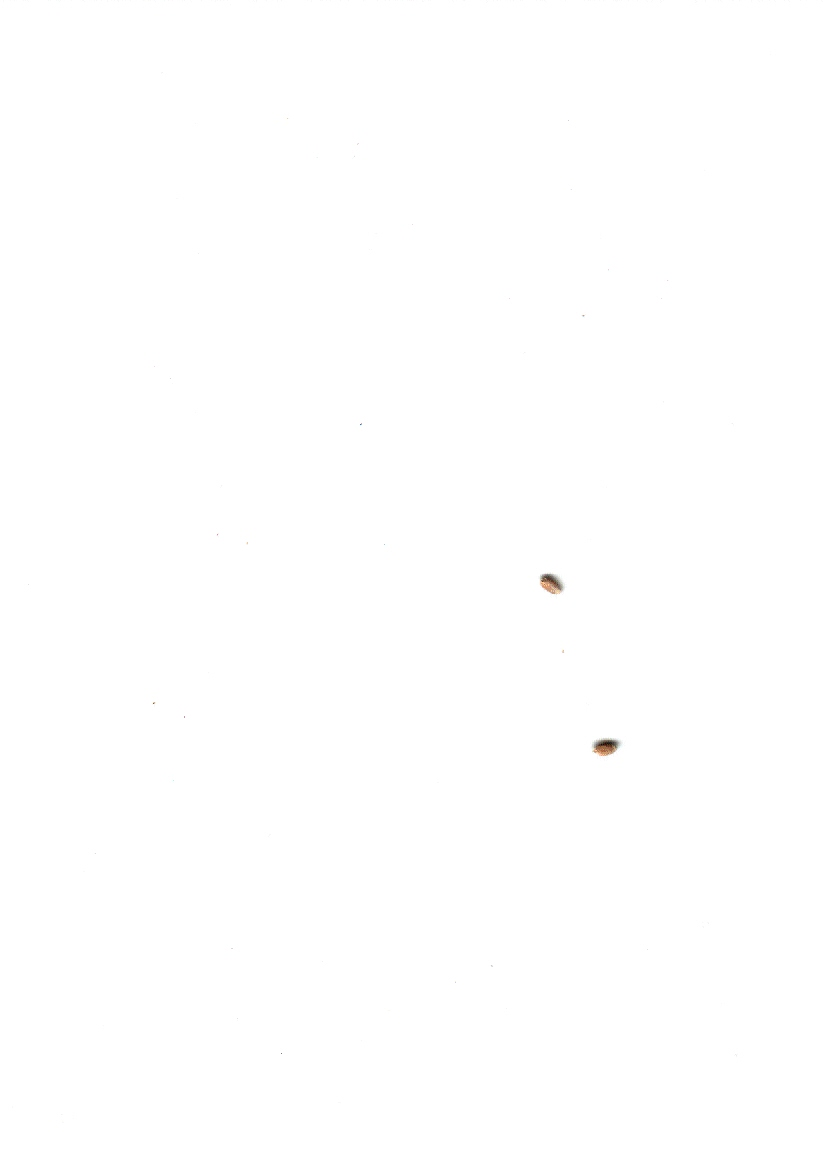grains: (527, 559, 575, 607), (583, 728, 627, 773)
